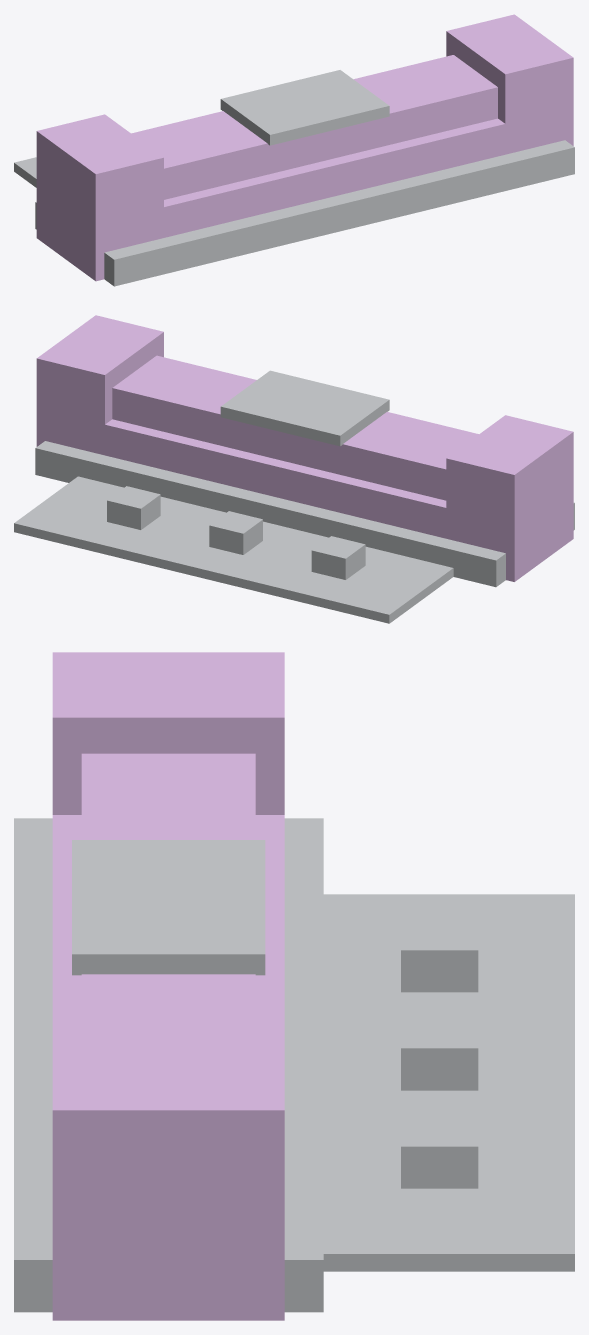
Rendered from sabo-dam.glb.
3 views of the same model, one above another, from view 1: azimuth 30°, elevation 25°; view 2: azimuth 150°, elevation 25°; view 3: azimuth 270°, elevation 25° (orthographic). The views are drawn at different scales.
Parts seen in each view (by area): view 1: step-2, base, wing-l, step-1, wing-r, notch-lip, apron; view 2: apron, step-2, step-1, wing-l, base, wing-r, notch-lip, baffle-0, baffle-2, baffle-1; view 3: apron, wing-r, base, step-2, wing-l, notch-lip, step-1, baffle-1, baffle-0, baffle-2.
Boxes of the visible parts, x1,y1,x2,y2 form: step-2: (131,55,497,199); base: (35,140,574,286); wing-l: (36,114,163,281); step-1: (130,118,505,245); wing-r: (446,14,573,154); notch-lip: (220,70,389,145); apron: (14,157,36,187); apron: (14,476,453,623); step-2: (112,355,478,500); step-1: (70,416,480,546); wing-l: (446,415,573,581); base: (35,441,574,587); wing-r: (36,315,163,454); notch-lip: (220,370,389,446); baffle-0: (311,536,365,579); baffle-2: (107,486,160,529); baffle-1: (209,511,262,554); apron: (323,894,574,1271); wing-r: (52,1044,284,1320); base: (14,818,323,1312); step-2: (81,753,255,1044); wing-l: (52,652,284,814); notch-lip: (72,840,265,975); step-1: (52,815,284,1044); baffle-1: (401,1015,478,1090); baffle-0: (401,917,478,992); baffle-2: (401,1114,478,1188).
Bounding box in the file's own units: 56 × 12 × 29.
